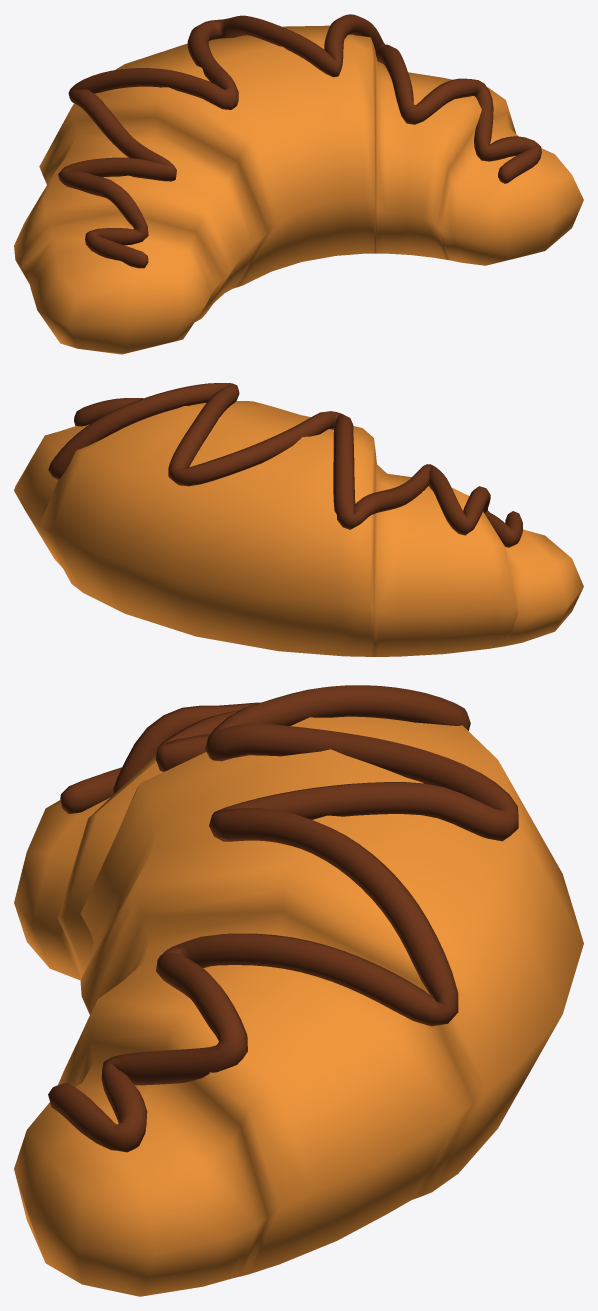
File: SM_croissant.glb
The picture shows the model from 3 angles, top to bottom: view 1: azimuth 30°, elevation 25°; view 2: azimuth 150°, elevation 25°; view 3: azimuth 270°, elevation 25°; orthographic projection. The views are drawn at different scales.
Parts seen in each view (by area): view 1: SM_croissant; view 2: SM_croissant; view 3: SM_croissant.
Part boxes in pixels (bbox=[...]): SM_croissant: bbox=[14, 14, 583, 354]; SM_croissant: bbox=[14, 383, 583, 656]; SM_croissant: bbox=[14, 685, 583, 1296].
Bounding box in the file's own units: 0.2535 × 0.0983 × 0.1396.
1 material, 1 textured.
